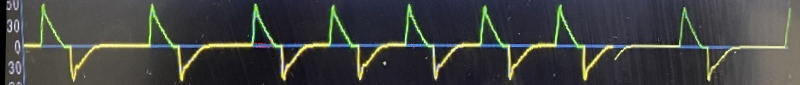normal_flow: (17, 0, 751, 85)
